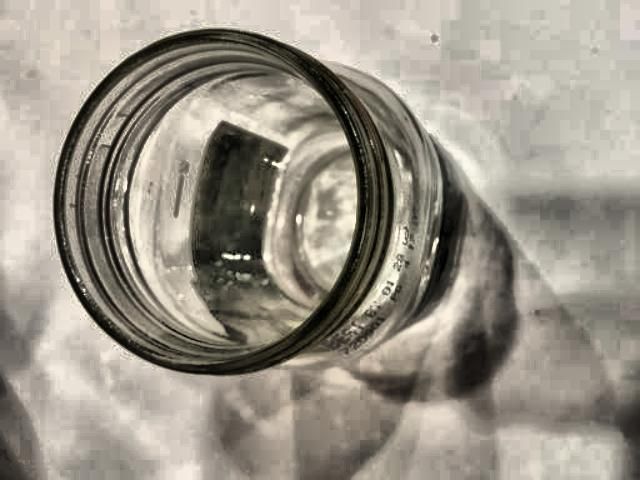Almennt: (36, 2, 488, 402)
